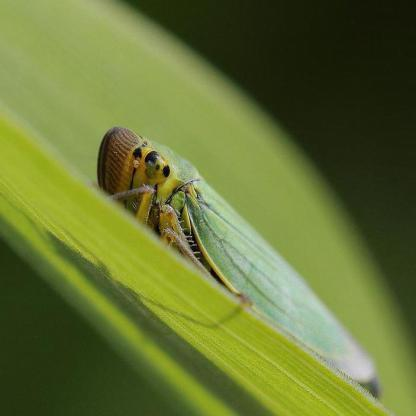Green-Leafhopper: (96, 128, 380, 397)
